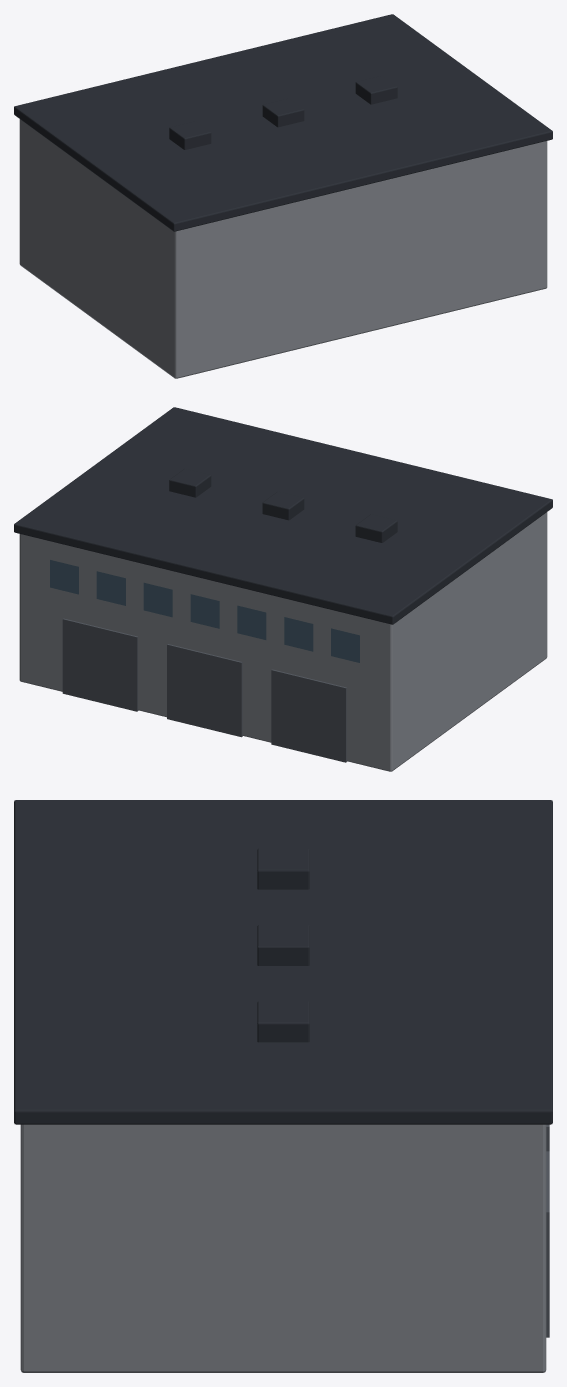
The model's file is bld_warehouse.glb.
The picture shows the model from 3 angles, top to bottom: view 1: azimuth 30°, elevation 25°; view 2: azimuth 150°, elevation 25°; view 3: azimuth 270°, elevation 25°; orthographic projection. The views are drawn at different scales.
Parts seen in each view (by area): view 1: Shell, Roof, Vent_1, Vent_2, Vent_0; view 2: Roof, Shell, Windows, Shutter_2, Shutter_0, Shutter_1, Vent_1, Vent_2, Vent_0; view 3: Roof, Shell, Vent_0, Vent_2, Vent_1, Shutter_2.
Boxes of the visible parts, <box> form: Shell: <box>19,119,547,378</box>; Roof: <box>14,14,552,231</box>; Vent_1: <box>262,98,304,127</box>; Vent_2: <box>355,76,397,104</box>; Vent_0: <box>169,121,211,149</box>; Roof: <box>14,407,552,624</box>; Shell: <box>19,512,547,771</box>; Windows: <box>50,560,359,662</box>; Shutter_2: <box>62,618,138,711</box>; Shutter_0: <box>271,669,347,762</box>; Shutter_1: <box>167,644,242,737</box>; Vent_1: <box>262,491,304,520</box>; Vent_2: <box>169,469,211,497</box>; Vent_0: <box>355,514,397,542</box>; Roof: <box>14,800,552,1124</box>; Shell: <box>20,1124,546,1372</box>; Vent_0: <box>257,848,309,889</box>; Vent_2: <box>257,1001,309,1042</box>; Vent_1: <box>257,925,309,965</box>; Shutter_2: <box>546,1151,549,1337</box>.
Size of the model in its own units: 22.4 by 9.6 by 16.4.
